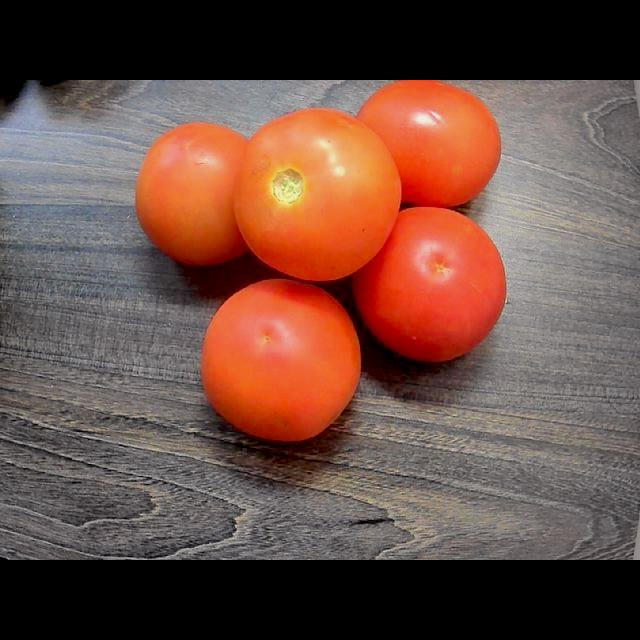tomate: (235, 109, 400, 280), (203, 279, 361, 440), (353, 207, 506, 361), (357, 80, 500, 207), (136, 123, 247, 265)
